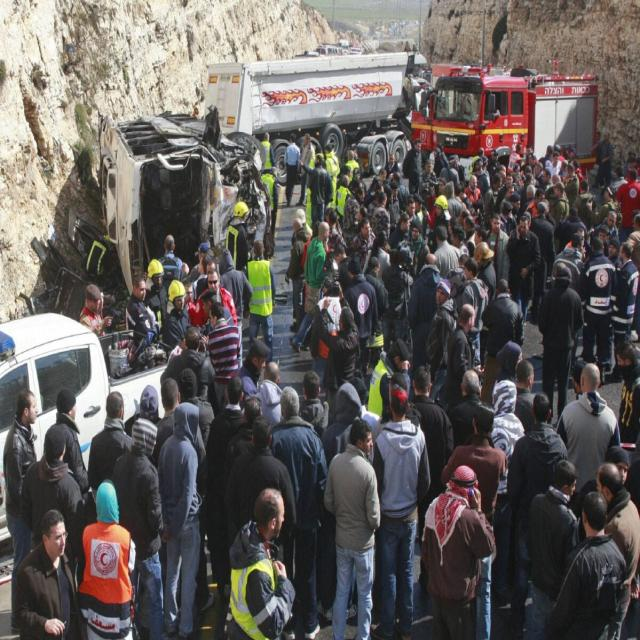Accident: (88, 95, 264, 299), (198, 42, 435, 176)
